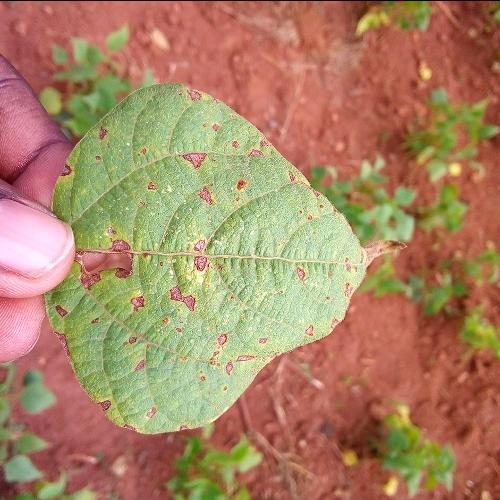hawar: (130, 135, 338, 400)
mozaik: (76, 237, 124, 291)
